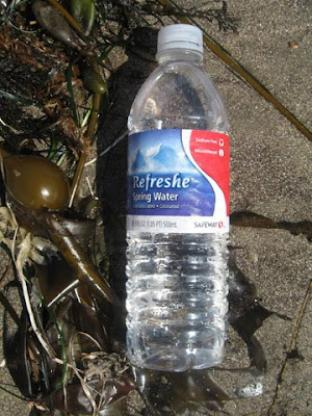Plastic Bottle: (124, 23, 230, 371)
